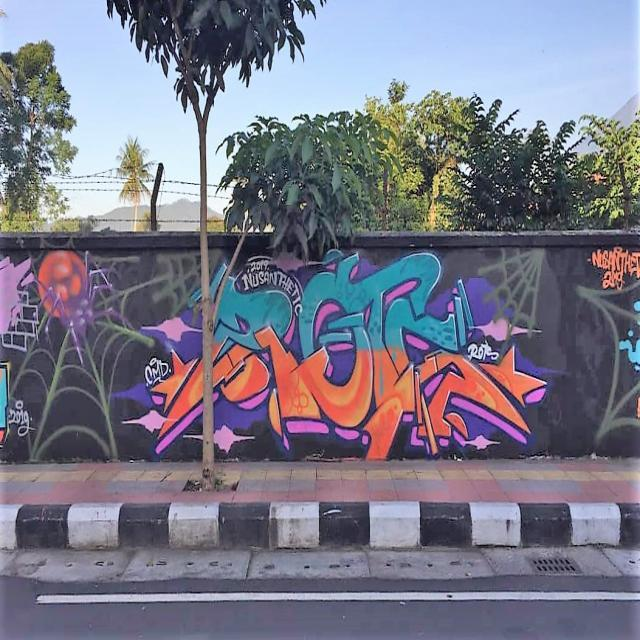-: (121, 252, 550, 454), (0, 250, 152, 463), (2, 250, 120, 354), (576, 283, 640, 448), (478, 245, 544, 356), (156, 246, 208, 315), (0, 362, 34, 452), (589, 243, 640, 290), (617, 300, 640, 371)
